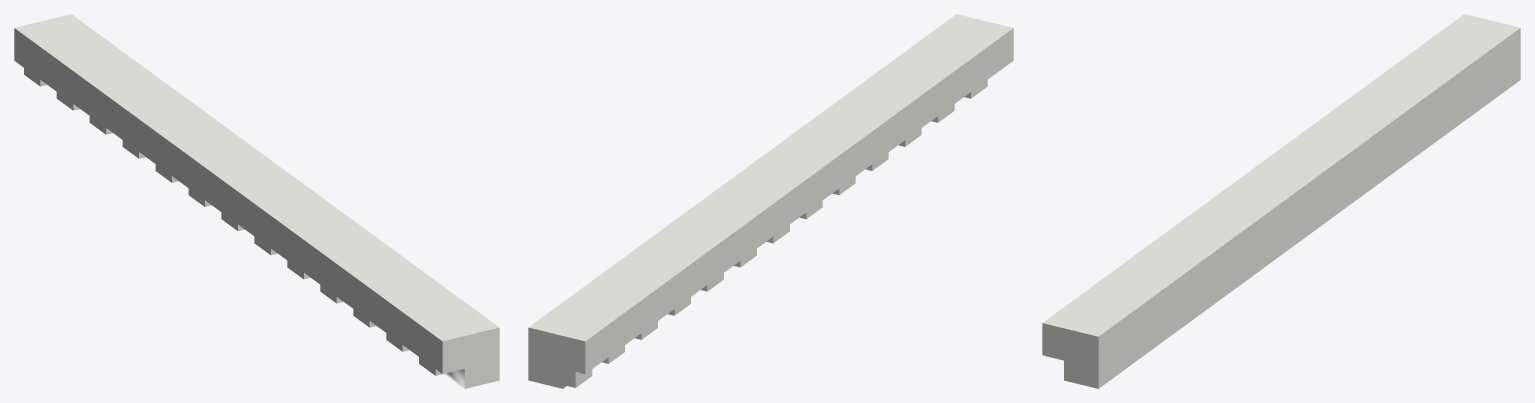
Rendered from temple_lip.fbx.
The picture shows the model from 3 angles, left to right: view 1: azimuth 30°, elevation 25°; view 2: azimuth 150°, elevation 25°; view 3: azimuth 330°, elevation 25°; orthographic projection.
Parts seen in each view (by area): view 1: pCube16; view 2: pCube16; view 3: pCube16.
Boxes of the visible parts, box(x1,y1,x2,y2) form: pCube16: box(14, 14, 499, 388); pCube16: box(528, 14, 1013, 388); pCube16: box(1042, 14, 1520, 388).
Bounding box in the file's own units: 1 × 0.8872 × 13.
Materials: 1 (1 with a texture image).
